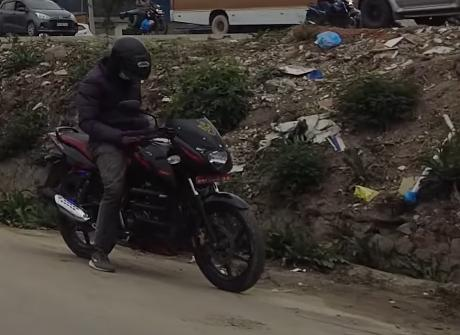bike: (38, 98, 270, 297)
